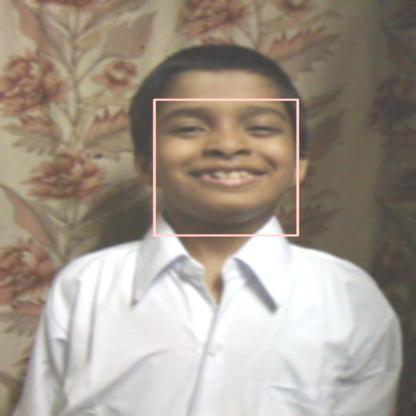without_mask: (154, 100, 297, 236)
